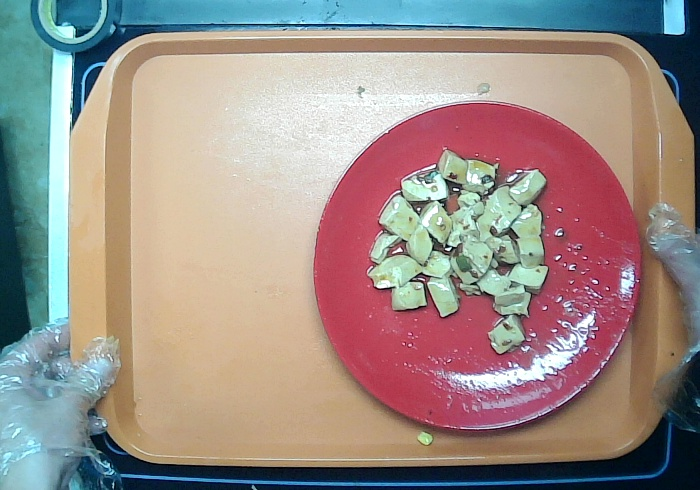HZYJPL-Hong_Se_Yuan_Pan: (307, 93, 648, 440)
